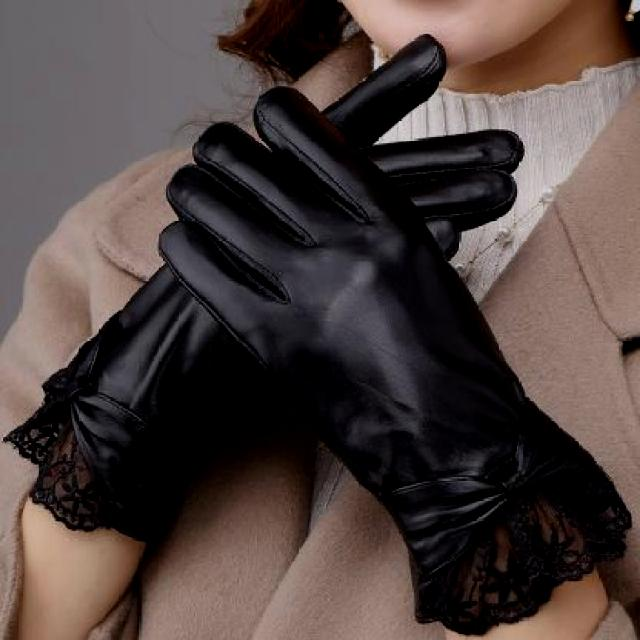hand_glove: (156, 84, 509, 473)
